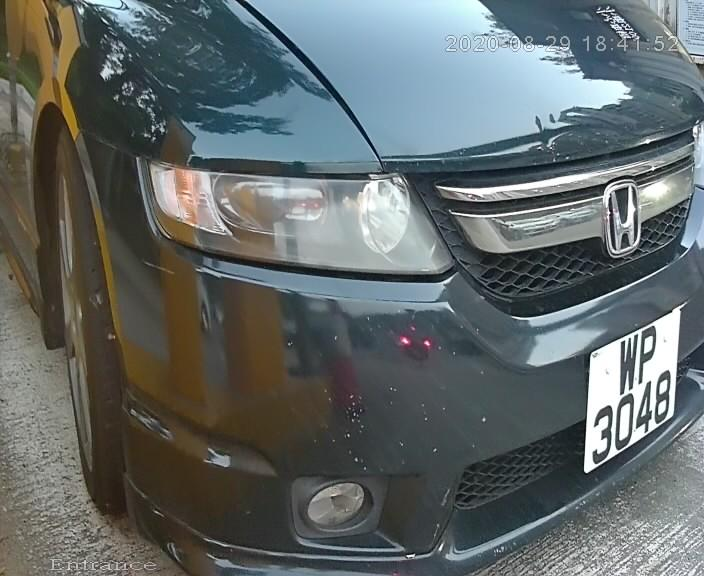License Plate: (576, 301, 676, 484)
